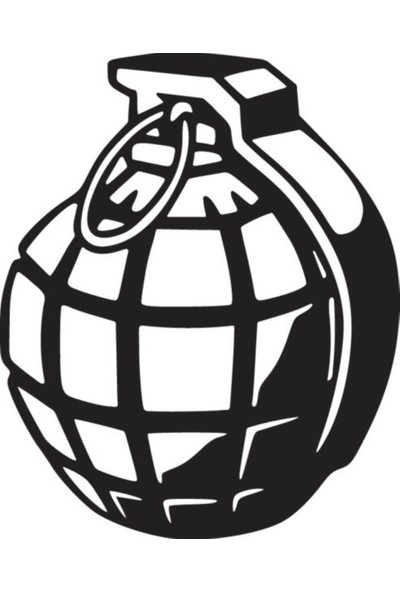e1: (7, 51, 397, 546)
